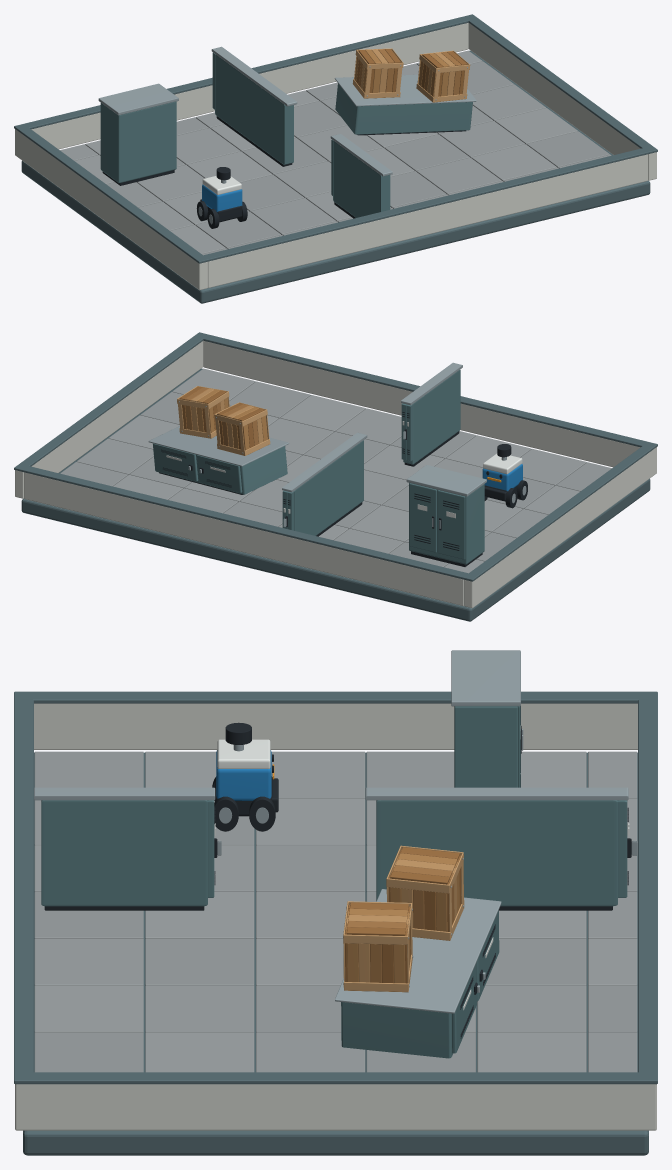
3 views of the same model, one above another, from view 1: azimuth 30°, elevation 25°; view 2: azimuth 150°, elevation 25°; view 3: azimuth 270°, elevation 25° (orthographic). The views are drawn at different scales.
Visible parts, largest first — view 1: Cutaway wall.002, Floor foundation, storage, Cutaway wall.003, divider_1, mount, Cutaway wall, Cutaway wall.001, divider_0, Wall coping.002, Wall coping.003, box_1 (+32 smaller); view 2: Cutaway wall.003, Cutaway wall.002, Floor foundation, storage, mount, divider_1, Cutaway wall, Cutaway wall.001, divider_0, Wall coping.003, Wall coping.002, box_0 (+37 smaller); view 3: Cutaway wall.001, divider_1, Cutaway wall, divider_0, Floor foundation, mount, storage, Wall coping.001, Wall coping.002, Wall coping.003, Wall coping, box_1 (+33 smaller).
Boxes of the visible parts, x1=… form: Cutaway wall.002: x1=208, y1=154, x2=647, y2=287; Floor foundation: x1=21, y1=50, x2=650, y2=303; storage: x1=98, y1=83, x2=178, y2=185; Cutaway wall.003: x1=31, y1=23, x2=468, y2=149; divider_1: x1=211, y1=46, x2=297, y2=166; mount: x1=334, y1=74, x2=476, y2=135; Cutaway wall: x1=15, y1=129, x2=207, y2=290; Cutaway wall.001: x1=468, y1=23, x2=656, y2=180; divider_0: x1=330, y1=134, x2=392, y2=218; Wall coping.002: x1=203, y1=148, x2=648, y2=261; Wall coping.003: x1=24, y1=16, x2=468, y2=129; box_1: x1=416, y1=50, x2=470, y2=102; Cutaway wall.003: x1=24, y1=472, x2=463, y2=605; Cutaway wall.002: x1=203, y1=341, x2=640, y2=467; Floor foundation: x1=21, y1=368, x2=650, y2=621; storage: x1=406, y1=465, x2=486, y2=566; mount: x1=148, y1=426, x2=289, y2=494; divider_1: x1=282, y1=432, x2=367, y2=536; Cutaway wall: x1=464, y1=447, x2=656, y2=608; Cutaway wall.001: x1=15, y1=341, x2=203, y2=498; divider_0: x1=401, y1=362, x2=462, y2=466; Wall coping.003: x1=23, y1=466, x2=468, y2=579; Wall coping.002: x1=203, y1=334, x2=647, y2=447; box_0: x1=214, y1=402, x2=270, y2=455; Cutaway wall.001: x1=15, y1=1084, x2=656, y2=1130; divider_1: x1=365, y1=787, x2=637, y2=910; Cutaway wall: x1=34, y1=703, x2=637, y2=749; divider_0: x1=34, y1=787, x2=221, y2=910; Floor foundation: x1=23, y1=752, x2=648, y2=1155; mount: x1=335, y1=889, x2=501, y2=1058; storage: x1=451, y1=650, x2=523, y2=787; Wall coping.001: x1=14, y1=1072, x2=657, y2=1084; Wall coping.002: x1=14, y1=699, x2=33, y2=1072; Wall coping.003: x1=638, y1=699, x2=657, y2=1072; Wall coping: x1=14, y1=691, x2=657, y2=703; box_1: x1=343, y1=901, x2=413, y2=992.
Size of the model in its own units: 8.32 by 1.63 by 5.82.
